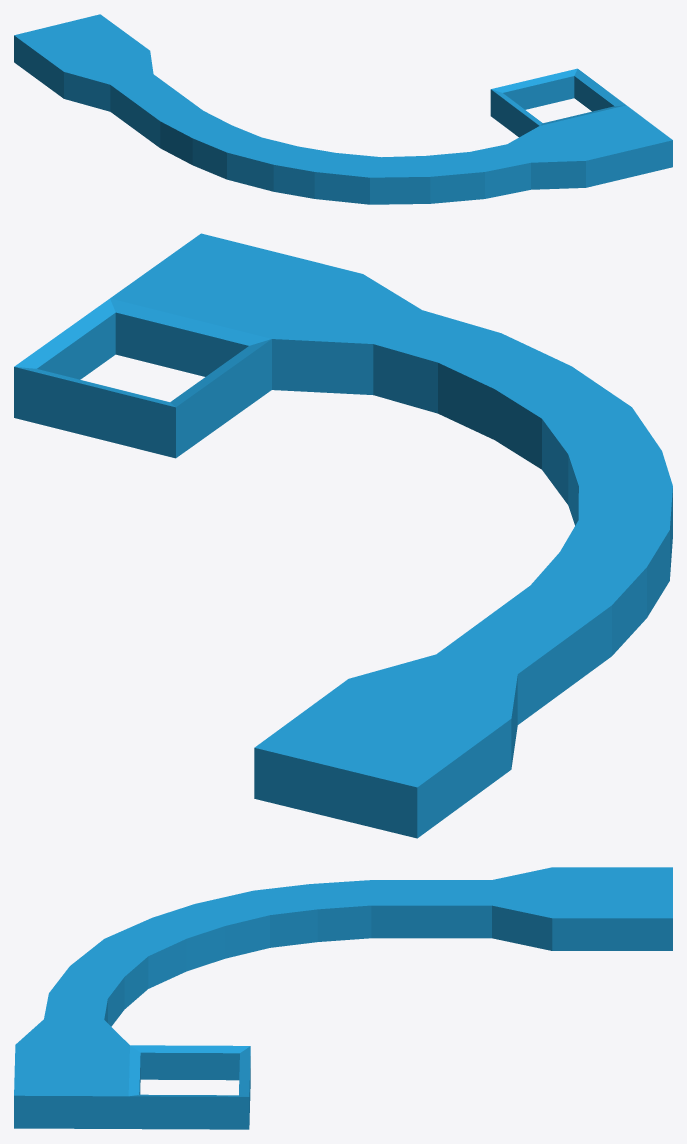
The model's file is model_map_07.fbx.
3 views of the same model, one above another, from view 1: azimuth 30°, elevation 25°; view 2: azimuth 150°, elevation 25°; view 3: azimuth 270°, elevation 25° (orthographic). The views are drawn at different scales.
Visible parts, largest first — view 1: col, lvl; view 2: col, lvl; view 3: col, lvl.
Boxes of the visible parts, x1,y1,x2,y2 form: col: (14,14,672,177); lvl: (14,35,672,204); col: (14,233,672,787); lvl: (14,312,672,838); col: (14,867,672,1096); lvl: (14,905,672,1129).
Size of the model in its own units: 900 by 59.88 by 1092.
